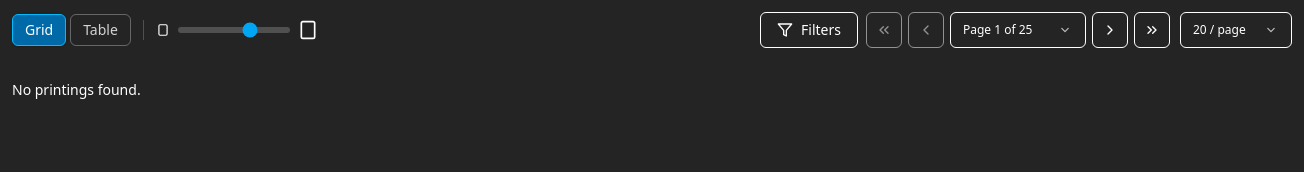
Test case: CardsPage filter wiring › displays up to 200 cards and locks the page size dropdown in table view
Click the button "Table": x=100, y=30 [70,14,131,46]
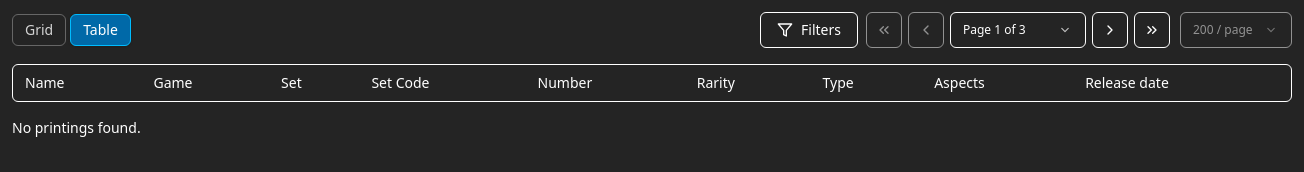
Expected: the dropdown named "Cards per page" is disabled, [1180,12,1292,48]
